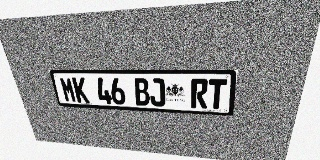4: (95, 78, 112, 104)
6: (109, 78, 126, 105)
B: (133, 78, 150, 106)
J: (149, 78, 165, 107)
K: (72, 77, 90, 103)
M: (59, 77, 77, 102)
R: (191, 79, 208, 109)
T: (208, 79, 227, 109)
